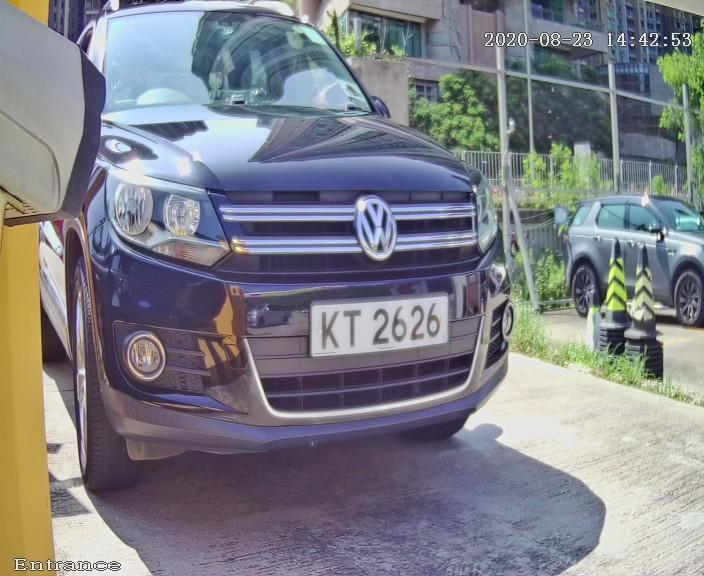Car: (19, 8, 551, 512)
License Plate: (271, 252, 479, 387)
